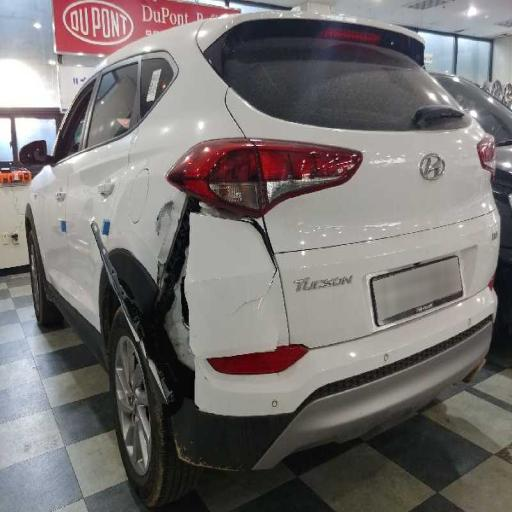broken: (124, 187, 293, 390)
